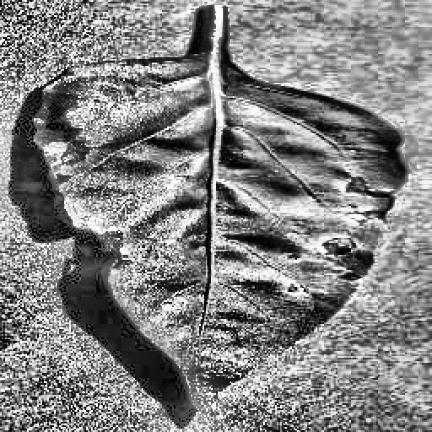leaf: (32, 7, 403, 415)
